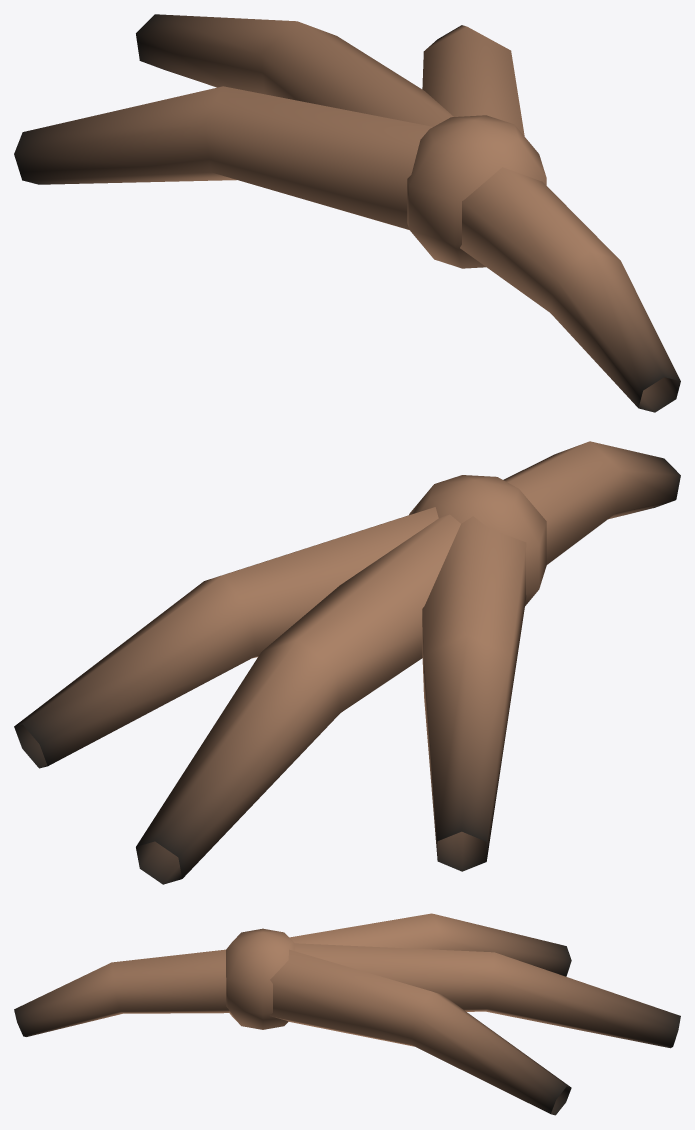
The model's file is Sparrow_Body_Limb1F.fbx.
The picture shows the model from 3 angles, top to bottom: view 1: azimuth 30°, elevation 25°; view 2: azimuth 150°, elevation 25°; view 3: azimuth 270°, elevation 25°; orthographic projection. The views are drawn at different scales.
Parts seen in each view (by area): view 1: Sparrow_Body_Limb1F; view 2: Sparrow_Body_Limb1F; view 3: Sparrow_Body_Limb1F.
Part boxes in pixels (x1=…): Sparrow_Body_Limb1F: x1=14, y1=14, x2=680, y2=412; Sparrow_Body_Limb1F: x1=14, y1=441, x2=680, y2=884; Sparrow_Body_Limb1F: x1=14, y1=913, x2=680, y2=1115.
Bounding box in the file's own units: 0.4046 × 0.1446 × 0.7555.
